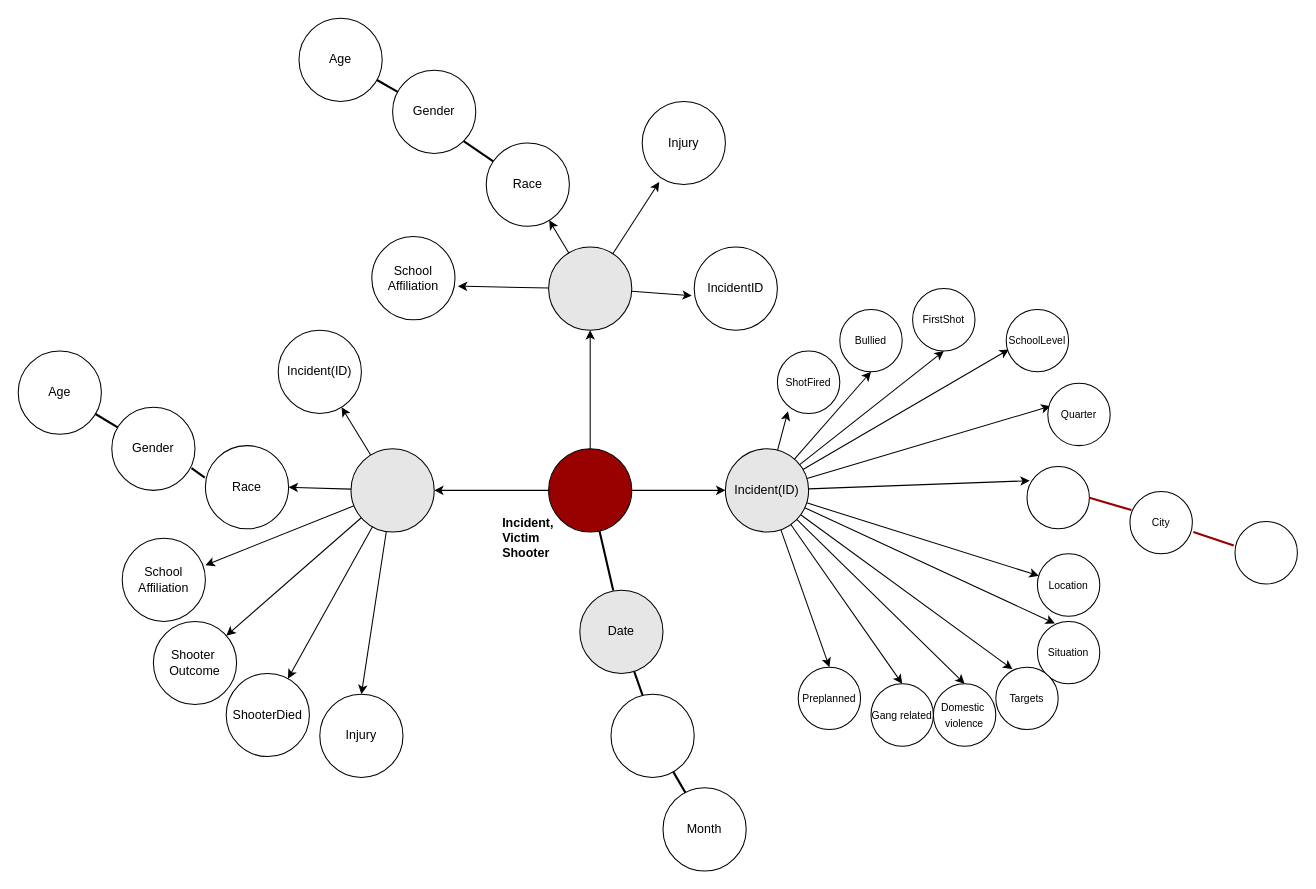
The diagram is 1316 pixels wide and 889 high, and some of its shapes have lost their labels. Each missing label, with the centre of its shape:
"School" goes at [1265,552].
"Shooter(ID)" goes at [392,490].
"State" goes at [1057,497].
"Victim(ID)" goes at [590,288].
"Year" goes at [652,735].
